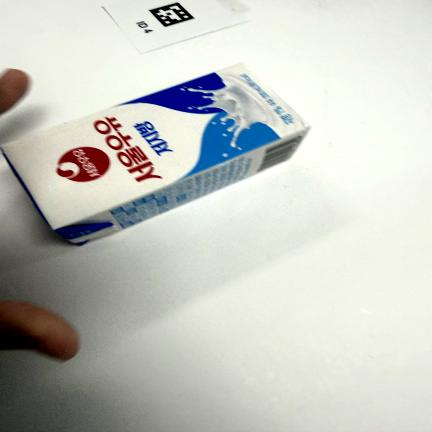milk_blue: (2, 64, 309, 245)
